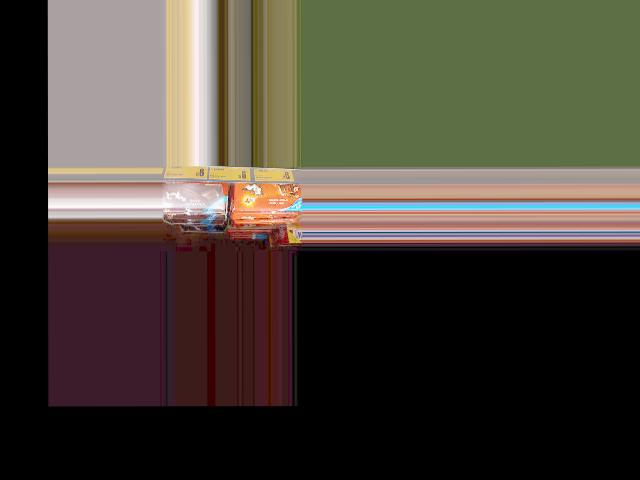chocolate: (161, 175, 222, 213)
